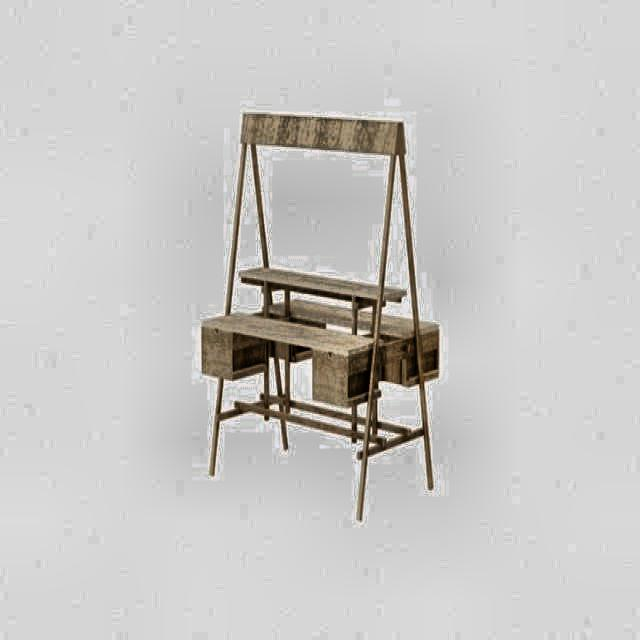mesa: (240, 262, 408, 448)
